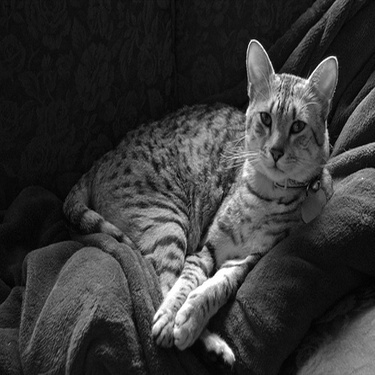cat: (60, 34, 341, 371)
